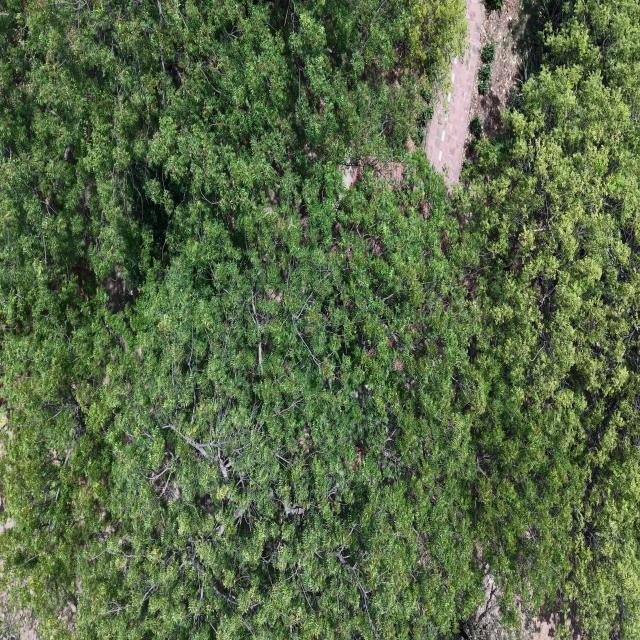DRY_AREA: (424, 0, 527, 185), (425, 0, 527, 184), (424, 0, 484, 184), (469, 0, 527, 136), (0, 592, 36, 639)
VEGETATION_TREE: (0, 0, 639, 639), (0, 0, 480, 638), (455, 2, 639, 638), (478, 39, 495, 94), (469, 115, 482, 152), (478, 65, 491, 94), (481, 38, 495, 64), (469, 115, 482, 138), (485, 0, 503, 11)
